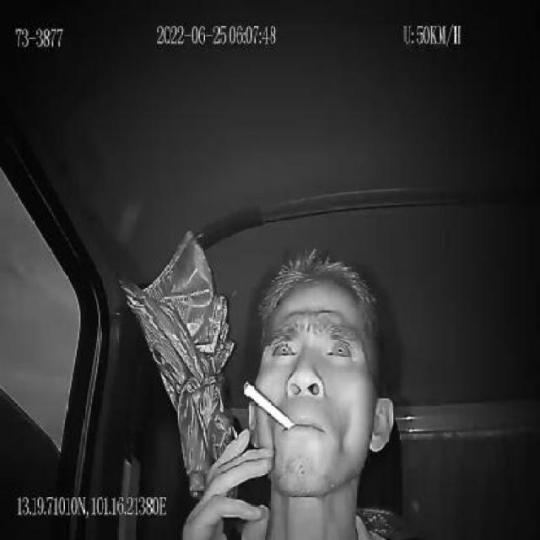smoking: (241, 376, 297, 434)
